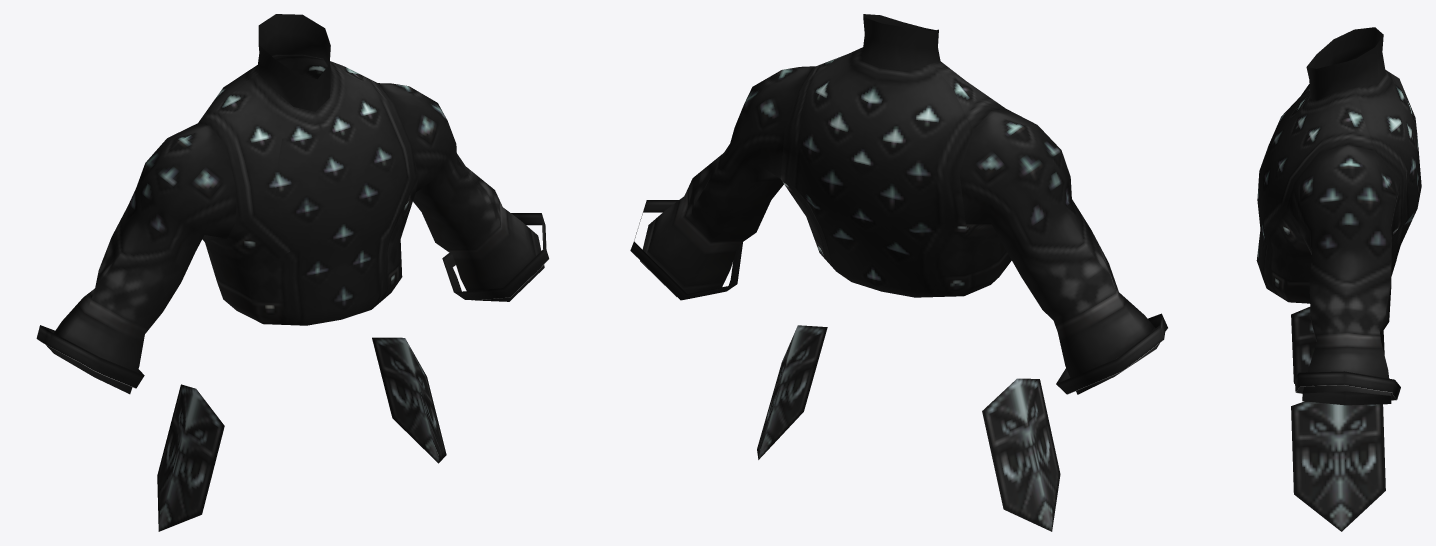
Rendered from hum_light_f_b4da1500.glb.
3 renders of one model, left to right at view 1: azimuth 30°, elevation 25°; view 2: azimuth 150°, elevation 25°; view 3: azimuth 270°, elevation 25°, orthographic. The views are drawn at different scales.
Size of the model in its own units: 1.48 by 1.22 by 0.4936.
1 material, 1 textured.
